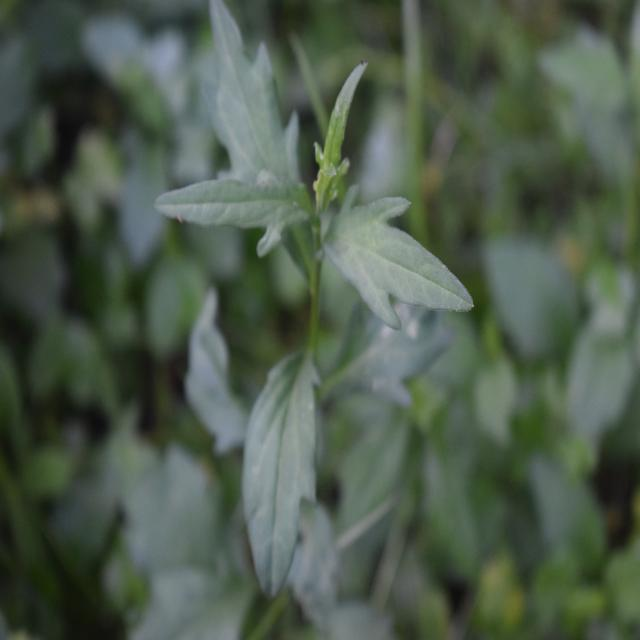Indian aster: (144, 23, 437, 558)
